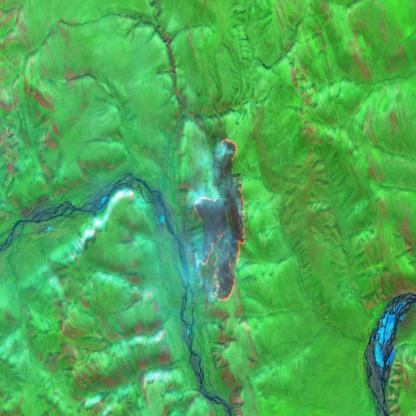fire: (192, 129, 248, 323)
